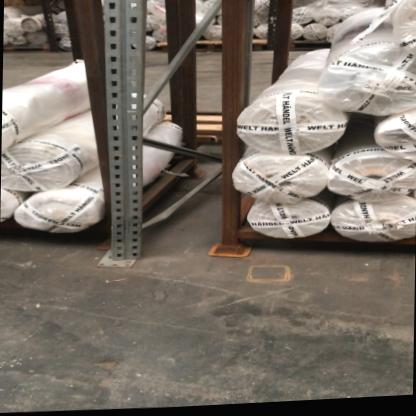vertical_damage: (98, 233, 151, 273)
